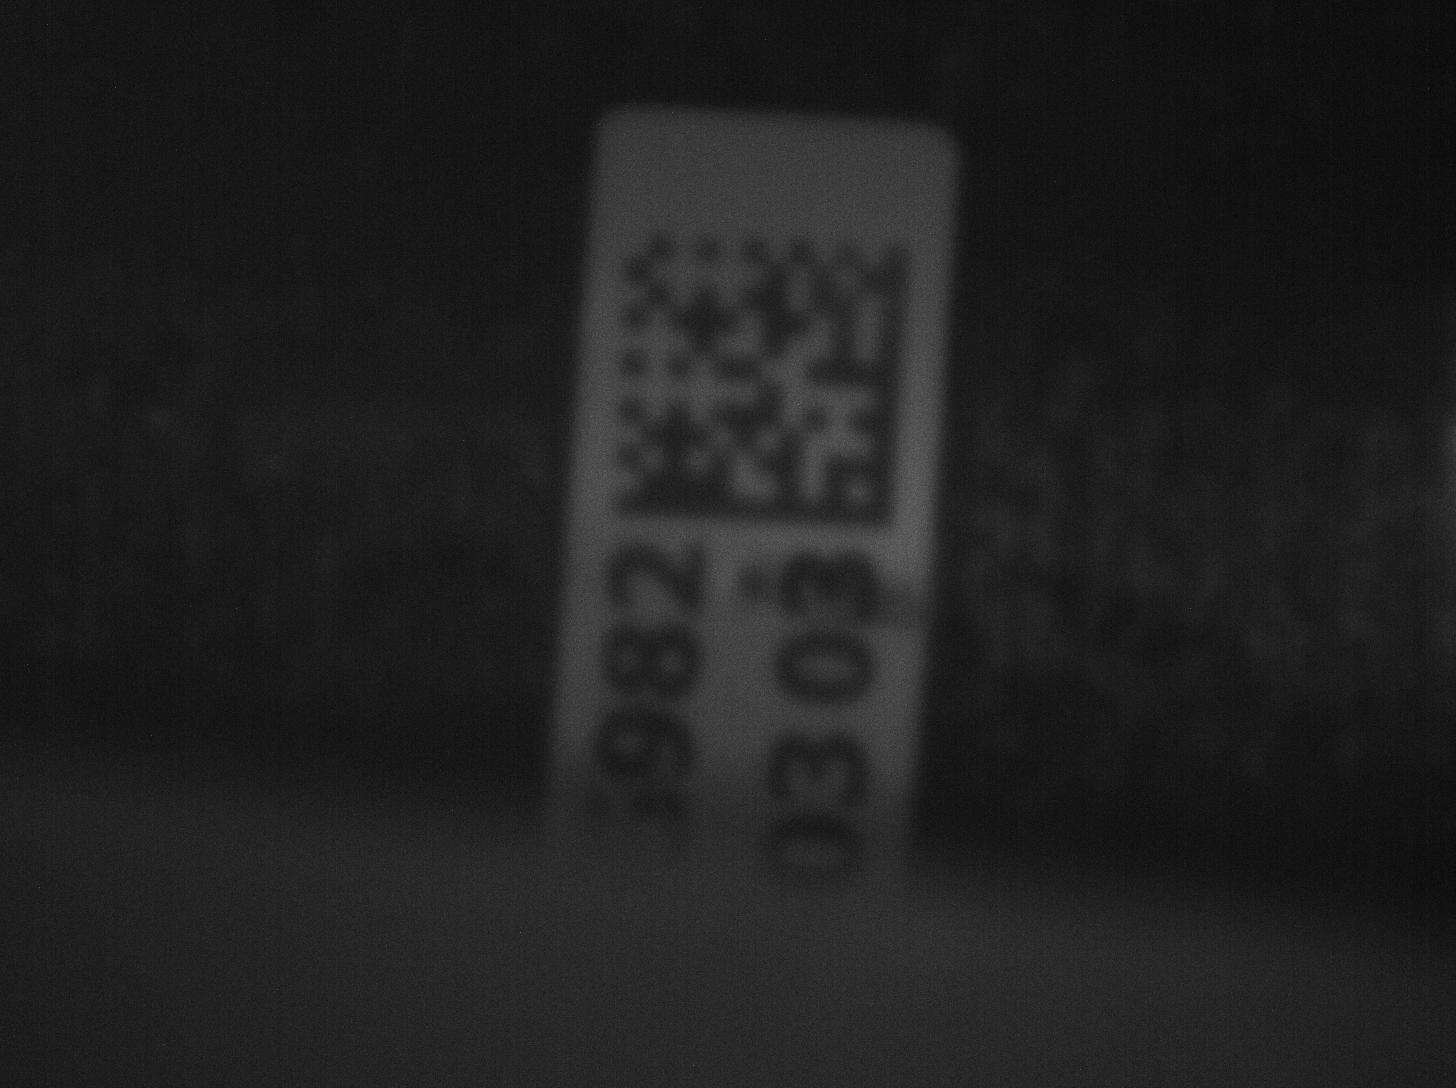data matrix: (586, 202, 928, 539)
